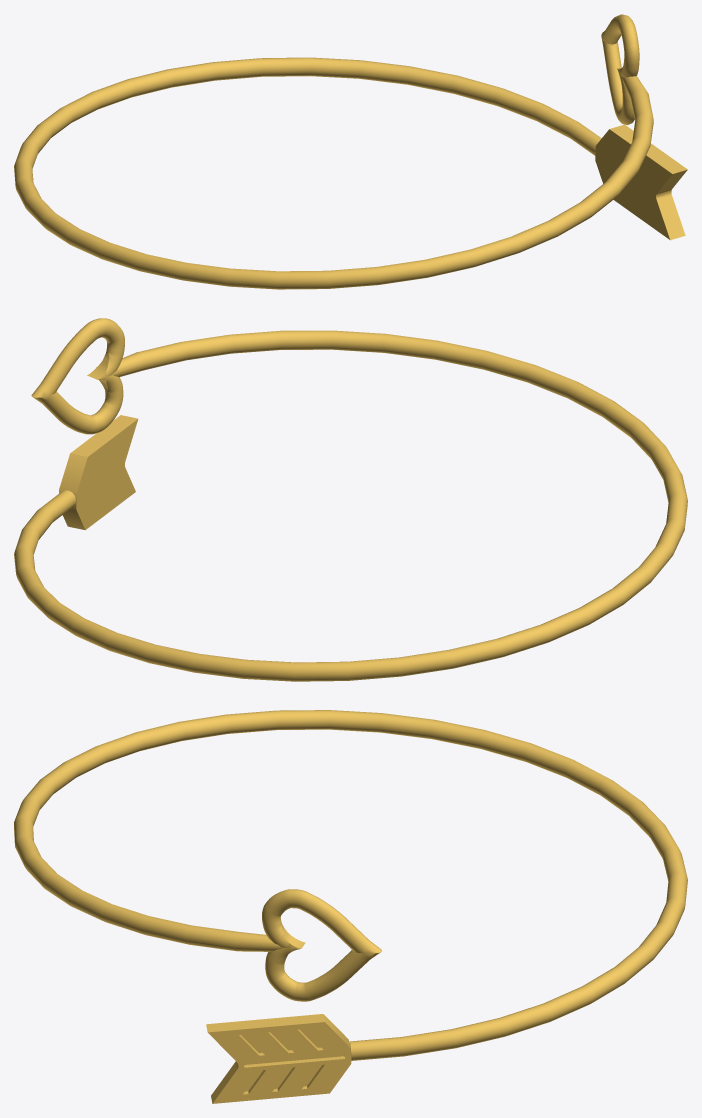
File: 6-gold.fbx
3 views of the same model, one above another, from view 1: azimuth 30°, elevation 25°; view 2: azimuth 150°, elevation 25°; view 3: azimuth 270°, elevation 25° (orthographic). The views are drawn at different scales.
Parts seen in each view (by area): view 1: Helix002, Line028, Line026; view 2: Helix002, Line028, Line026; view 3: Helix002, Line028, Line026.
Boxes of the visible parts, x1,y1,x2,y2 form: Helix002: (14, 57, 653, 289); Line028: (595, 124, 687, 240); Line026: (601, 14, 639, 125); Helix002: (14, 330, 687, 681); Line028: (59, 415, 138, 530); Line026: (31, 318, 124, 434); Helix002: (14, 710, 687, 1060); Line028: (206, 1014, 351, 1103); Line026: (262, 889, 381, 1001).
Size of the model in its own units: 21.08 by 6.87 by 20.57.
